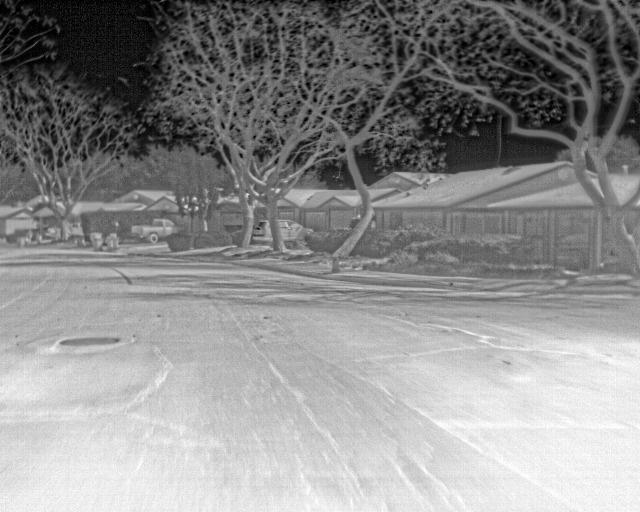car: (130, 216, 177, 244), (278, 218, 305, 246), (254, 220, 270, 244)
